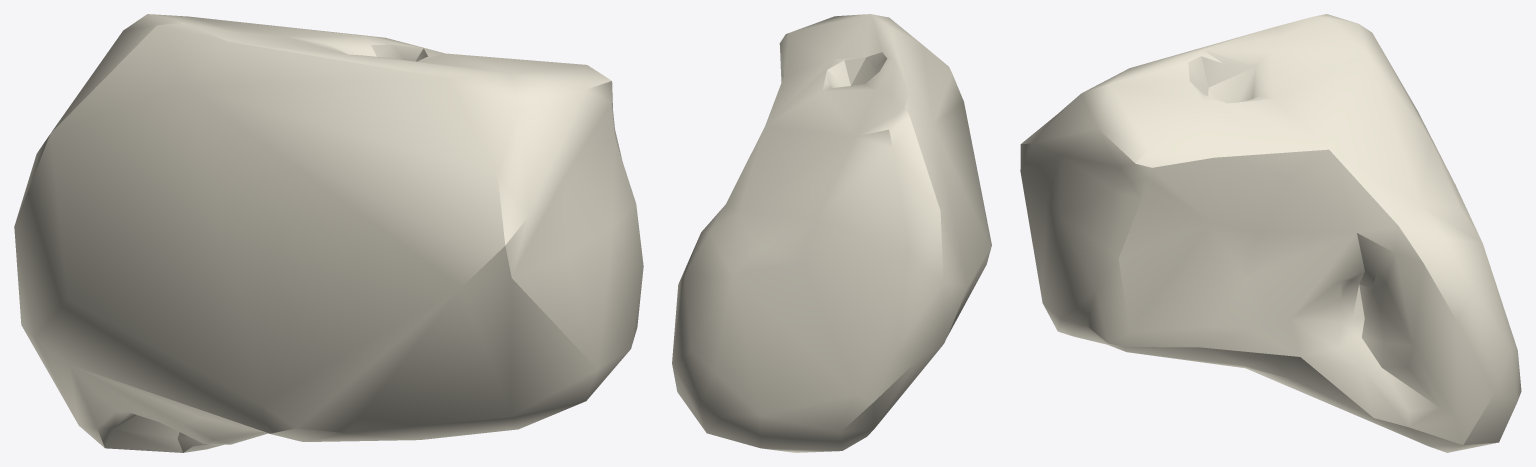
Rendered from fma23725_fj3389.glb.
3 views of the same model, side by side, from view 1: azimuth 30°, elevation 25°; view 2: azimuth 150°, elevation 25°; view 3: azimuth 270°, elevation 25° (orthographic). The views are drawn at different scales.
Visible parts, largest first — view 1: FMA23725_FJ3389; view 2: FMA23725_FJ3389; view 3: FMA23725_FJ3389.
Boxes of the visible parts, <box> form: FMA23725_FJ3389: <box>14,14,643,452</box>; FMA23725_FJ3389: <box>672,14,991,452</box>; FMA23725_FJ3389: <box>1020,14,1521,452</box>.
Size of the model in its own units: 0.0111 by 0.0124 by 0.0149.
